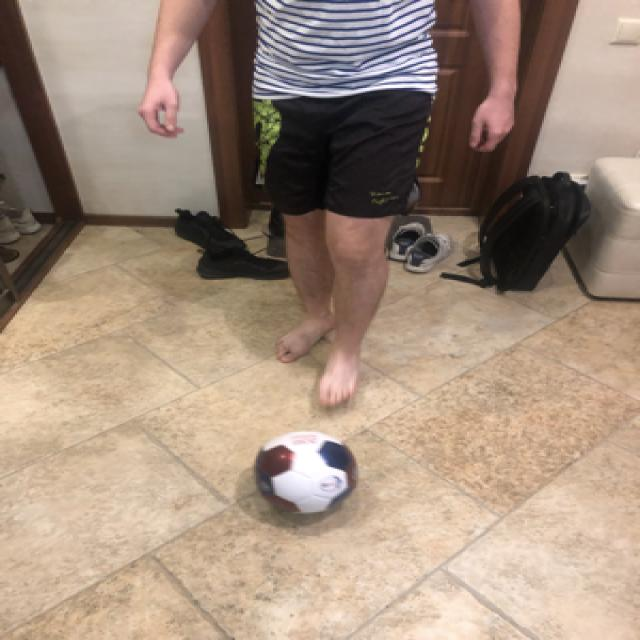soccer_ball: (250, 427, 358, 517)
